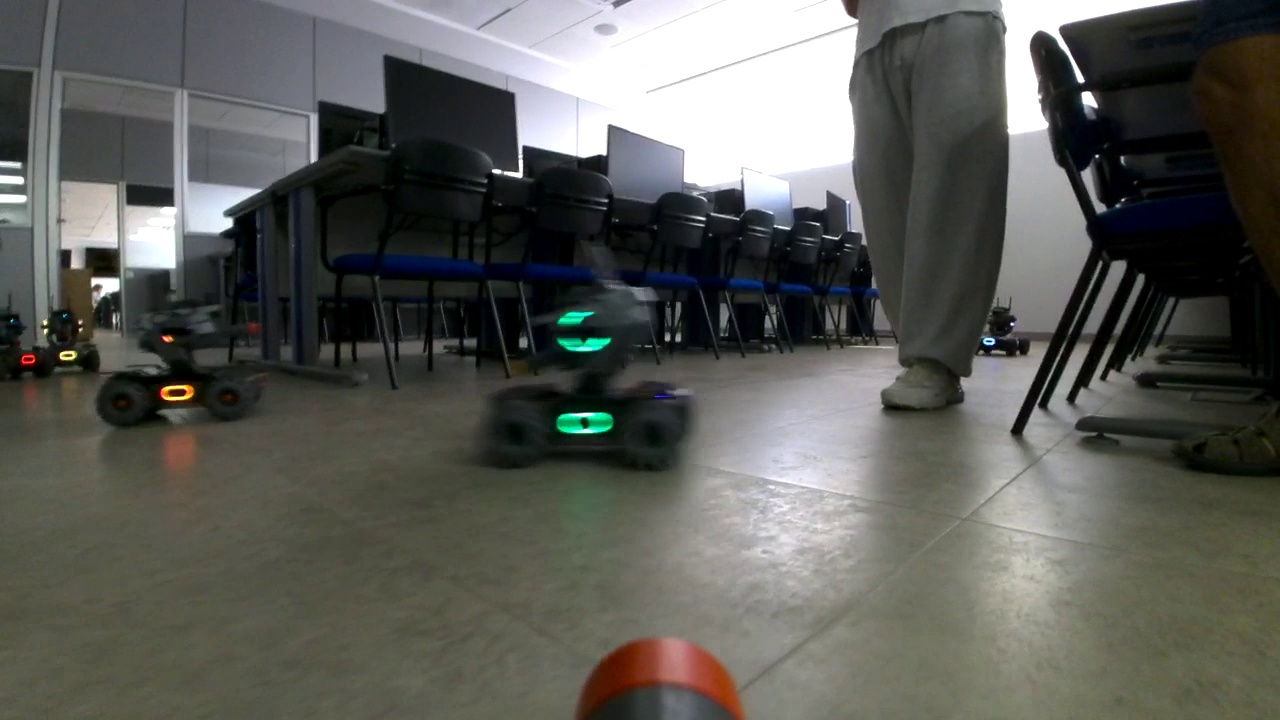robot: (482, 240, 691, 473), (96, 295, 264, 423), (31, 294, 99, 373), (973, 296, 1030, 356), (1, 290, 37, 379)
